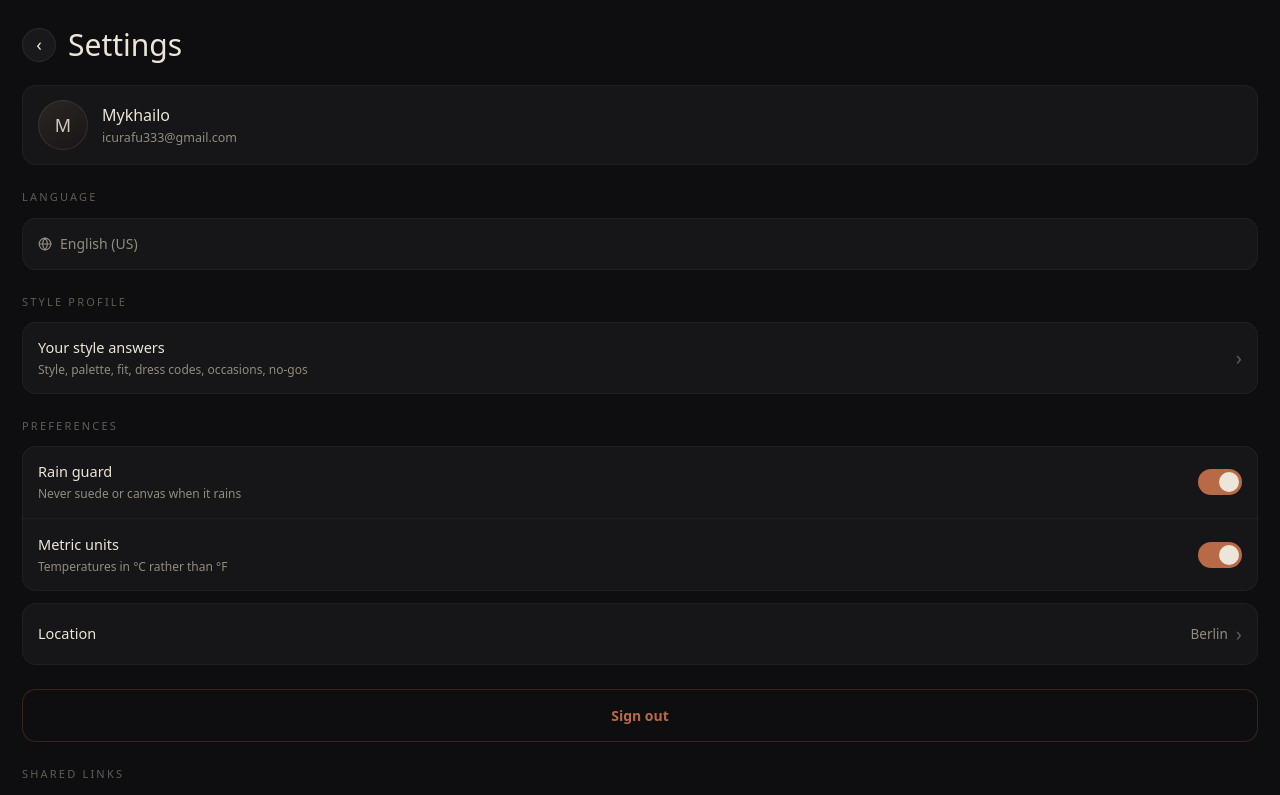
Test: picking a city saves it and shows it immediately
Click the button "Location Berlin ›": (67, 633) [22,603,1258,665]
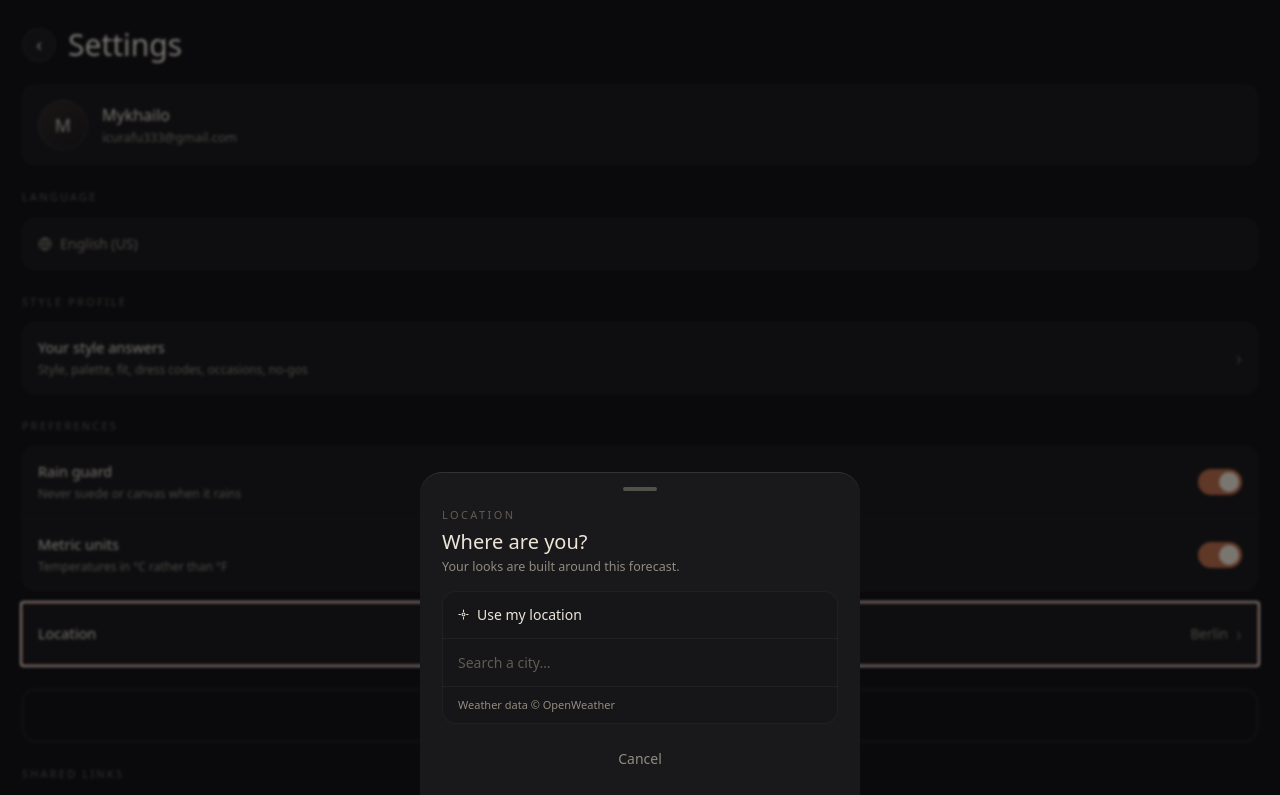
In the field labelled "Search a city…": (640, 663) [442,639,838,687], type "Man"
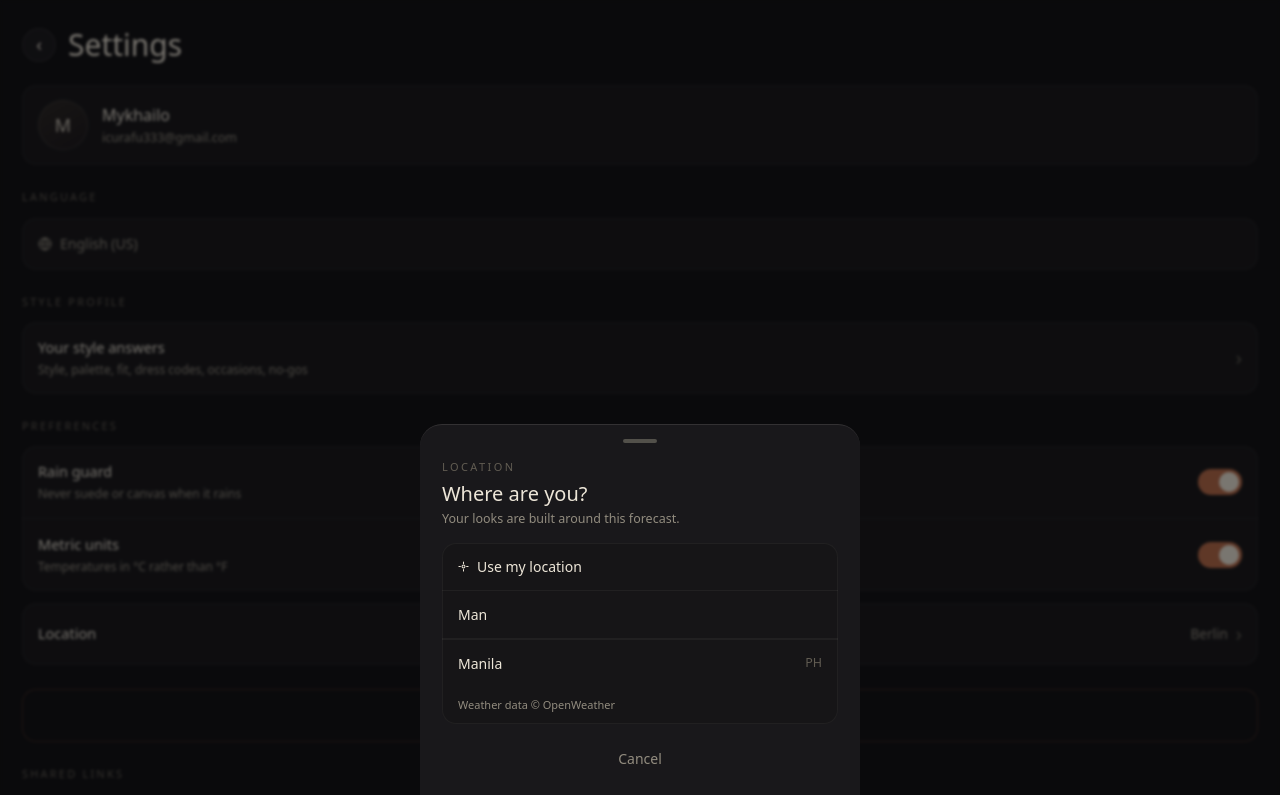
Click the option "Manila PH": (480, 663) [442,639,838,687]
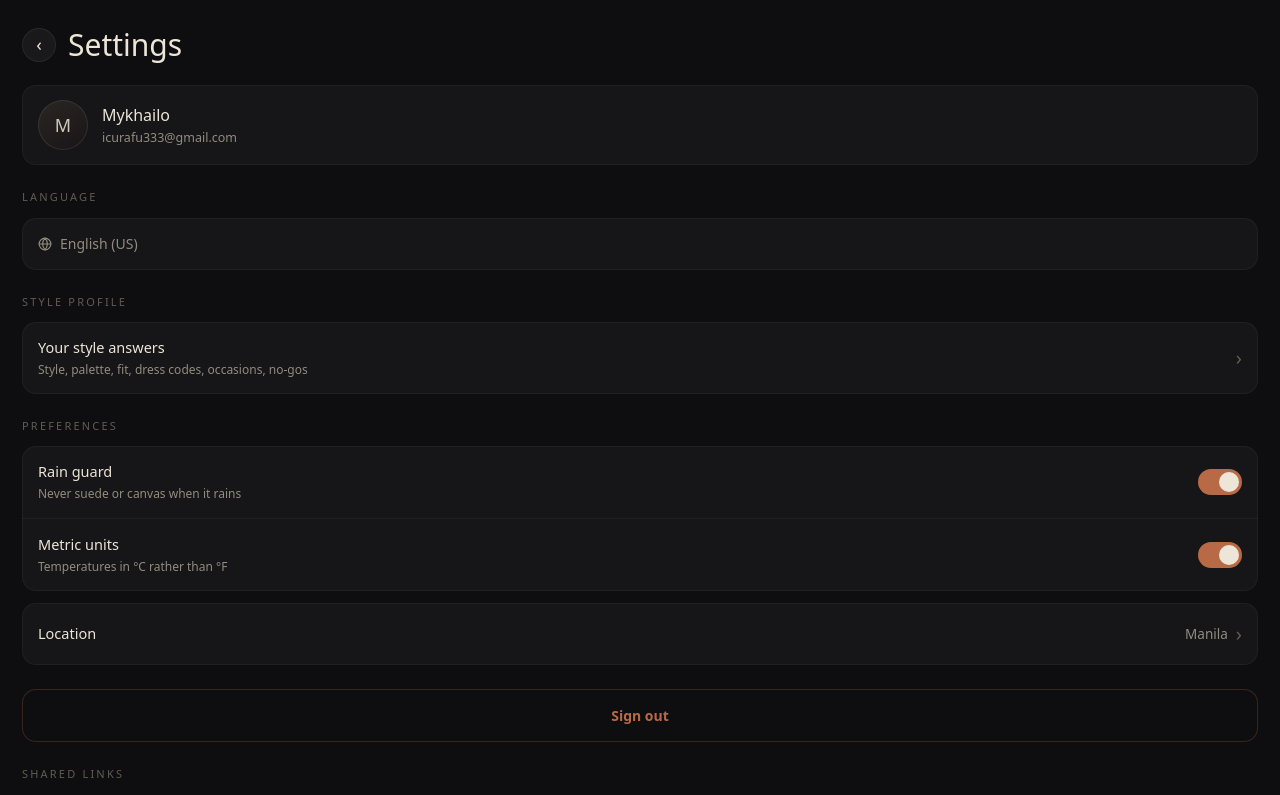
Expected: the text "Manila" is shown, [1185,624,1228,644]
Expected: the list is gone
